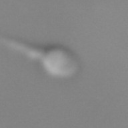normal: (1, 28, 44, 58)
